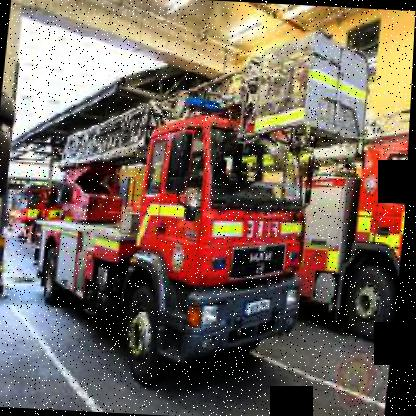emergency: (15, 102, 337, 396)
